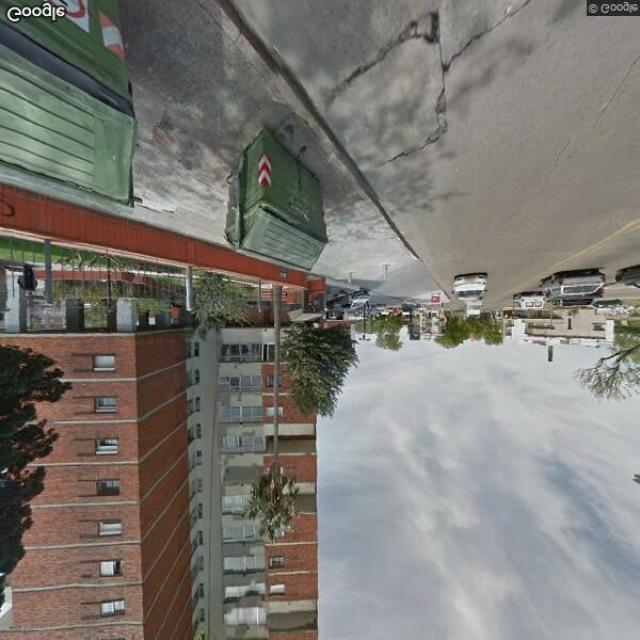garbage container: (2, 4, 156, 217), (219, 122, 343, 280)
